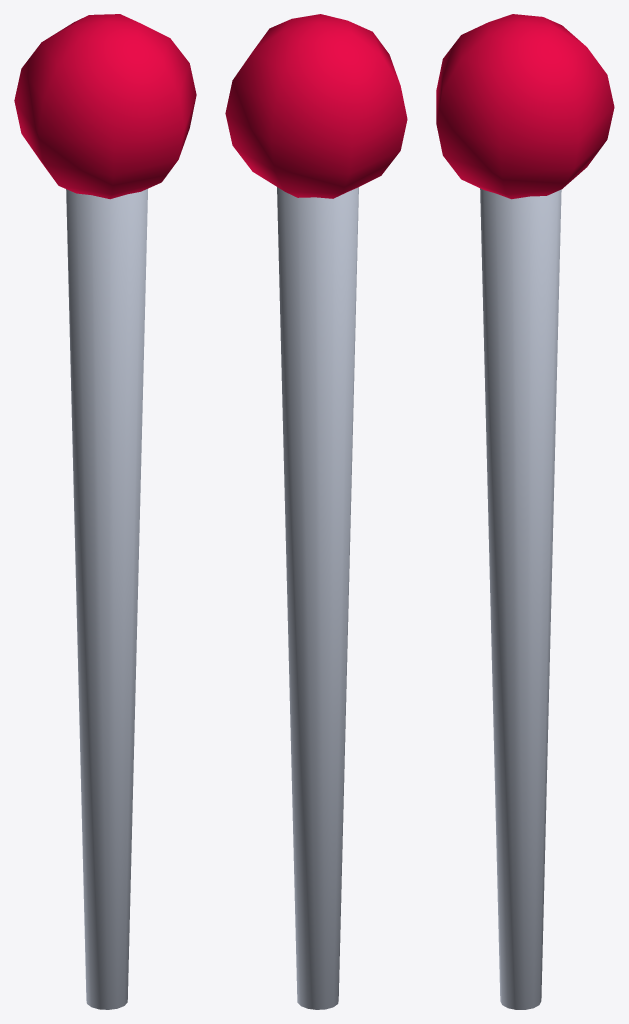
The model's file is pin1.glb.
3 views of the same model, side by side, from view 1: azimuth 30°, elevation 25°; view 2: azimuth 150°, elevation 25°; view 3: azimuth 270°, elevation 25° (orthographic).
Parts seen in each view (by area): view 1: Cylinder; view 2: Cylinder; view 3: Cylinder.
Part boxes in pixels (x1,y1,x2,y2): Cylinder: [14, 14, 196, 1009]; Cylinder: [225, 14, 407, 1009]; Cylinder: [436, 14, 614, 1009].
Bounding box in the file's own units: 0.00265 × 0.0157 × 0.00259.
